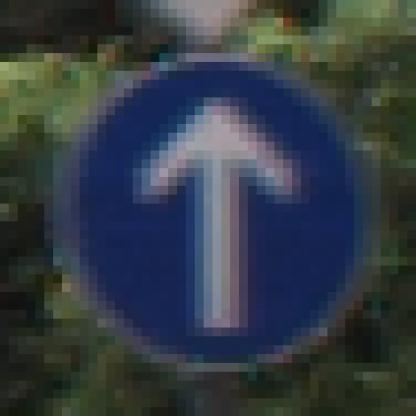AheadOnly: (54, 45, 373, 373)
